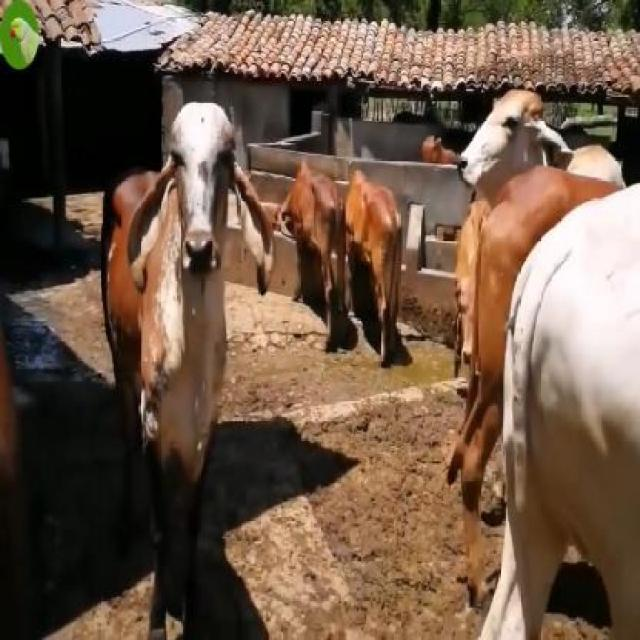Cow: (98, 101, 277, 638)
